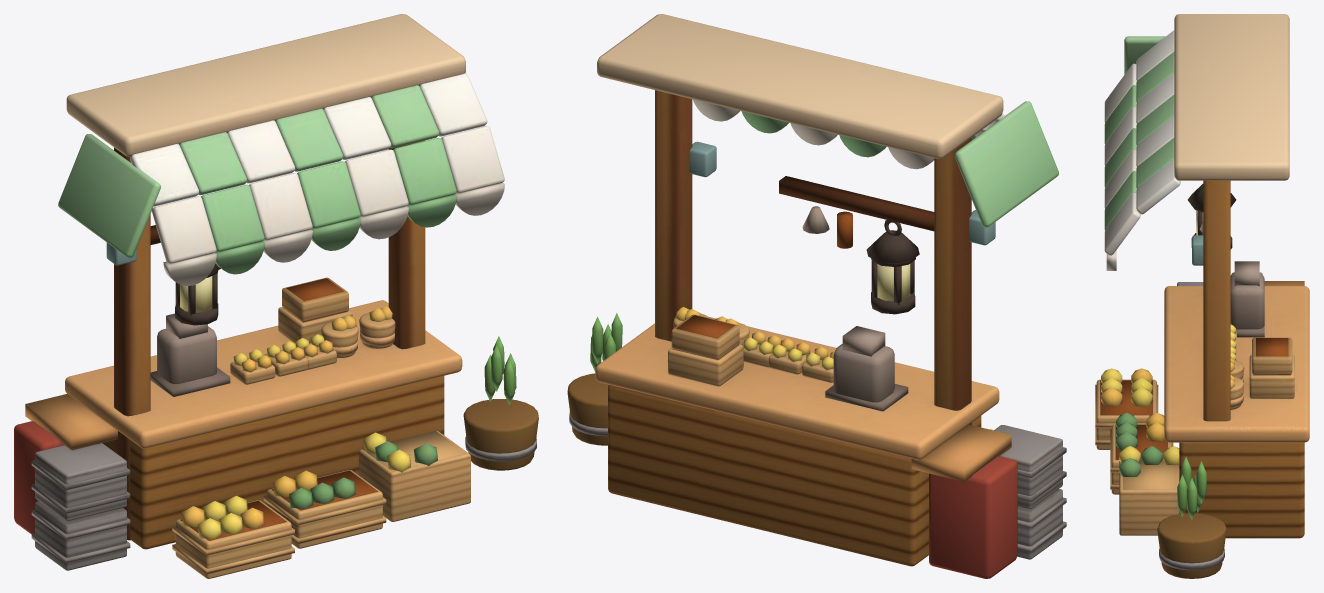
The model's file is awning_stall_5_high.glb.
3 views of the same model, side by side, from view 1: azimuth 30°, elevation 25°; view 2: azimuth 150°, elevation 25°; view 3: azimuth 270°, elevation 25° (orthographic). The views are drawn at different scales.
Visible parts, largest first — view 1: awning_stall_5; view 2: awning_stall_5; view 3: awning_stall_5.
Boxes of the visible parts, box(x1,y1,x2,y2) form: awning_stall_5: box(14, 14, 538, 578); awning_stall_5: box(567, 14, 1066, 578); awning_stall_5: box(1095, 14, 1309, 578).
Size of the model in its own units: 2.01 by 1.69 by 0.856.
1 material, 1 textured.
